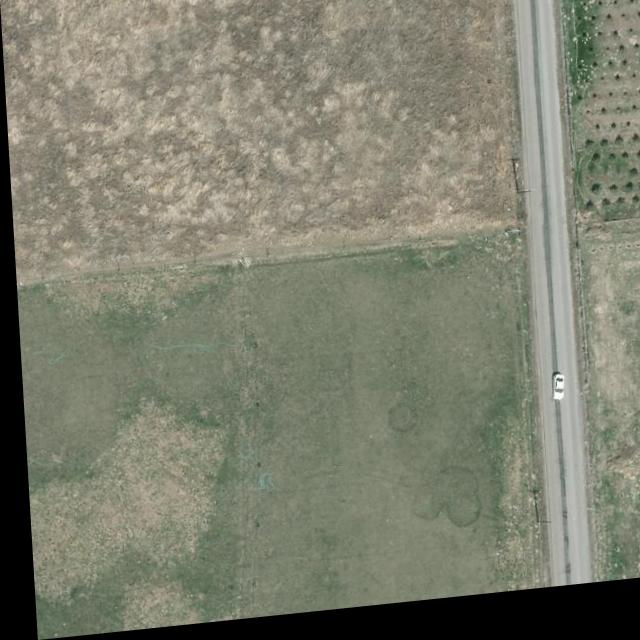vehicle: (547, 386, 560, 413)
